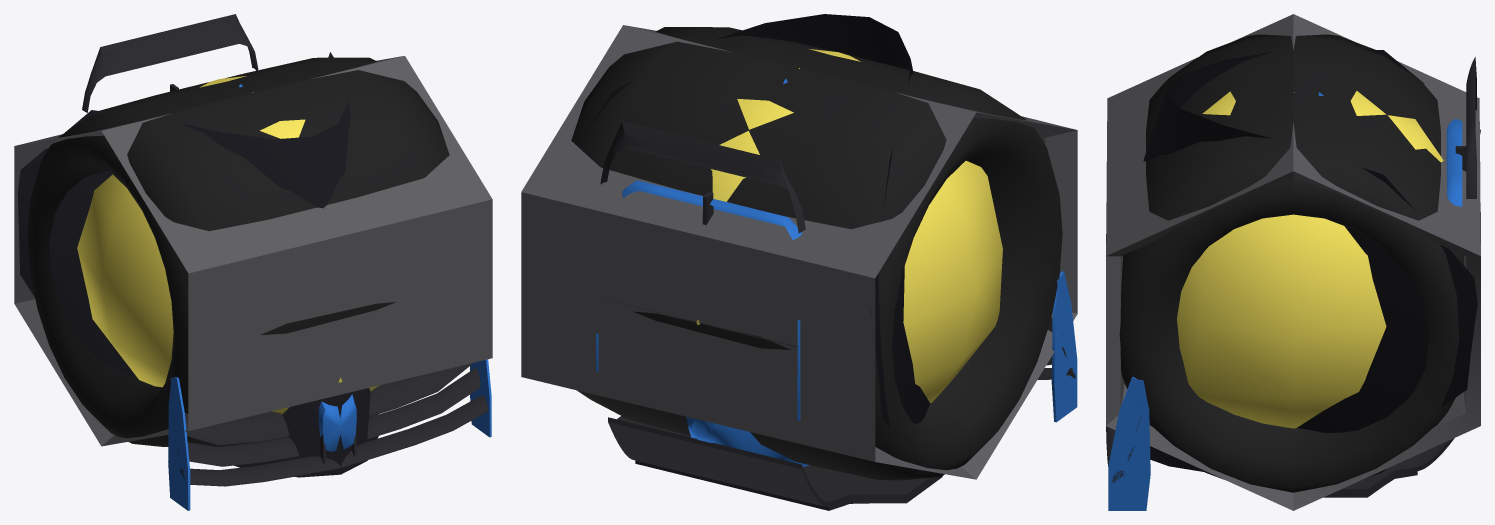
3 views of the same model, side by side, from view 1: azimuth 30°, elevation 25°; view 2: azimuth 150°, elevation 25°; view 3: azimuth 270°, elevation 25° (orthographic). The views are drawn at different scales.
Visible parts, largest first — view 1: rim_FR, tyre_FR, carbon, visor, tyre_FL, helmet, tyre_RR, body, tyre_RL, rim_RR; view 2: rim_RR, tyre_RR, tyre_RL, helmet, carbon, tyre_FR, visor, body, rim_RL, tyre_FL, rim_FR; view 3: helmet, tyre_RL, tyre_FL, visor, tyre_RR, rim_FR, tyre_FR, rim_RR, body, rim_FL, rim_RL, carbon.
Part boxes in pixels (left/top/right/bottom): rim_FR: left=14, top=56, right=492, bottom=445; tyre_FR: left=27, top=84, right=376, bottom=446; carbon: left=82, top=14, right=487, bottom=486; visor: left=17, top=52, right=378, bottom=477; tyre_FL: left=209, top=70, right=449, bottom=332; helmet: left=77, top=76, right=378, bottom=414; tyre_RR: left=32, top=73, right=288, bottom=432; body: left=168, top=84, right=491, bottom=510; tyre_RL: left=246, top=57, right=376, bottom=83; rim_RR: left=15, top=56, right=401, bottom=446; rim_RR: left=521, top=25, right=1077, bottom=479; tyre_RR: left=656, top=58, right=1062, bottom=480; tyre_RL: left=571, top=41, right=852, bottom=459; helmet: left=696, top=49, right=1002, bottom=402; carbon: left=598, top=121, right=1075, bottom=510; tyre_FR: left=758, top=45, right=1056, bottom=462; visor: left=584, top=14, right=930, bottom=428; body: left=596, top=78, right=1077, bottom=466; rim_RL: left=646, top=189, right=928, bottom=454; tyre_FL: left=655, top=27, right=807, bottom=57; rim_FR: left=625, top=25, right=1076, bottom=479; helmet: left=1177, top=91, right=1443, bottom=428; tyre_RL: left=1132, top=94, right=1464, bottom=492; tyre_FL: left=1119, top=110, right=1454, bottom=492; visor: left=1106, top=49, right=1480, bottom=471; tyre_RR: left=1293, top=34, right=1440, bottom=177; rim_FR: left=1106, top=14, right=1293, bottom=255; tyre_FR: left=1106, top=34, right=1293, bottom=242; rim_RR: left=1293, top=14, right=1480, bottom=255; body: left=1108, top=92, right=1462, bottom=510; rim_FL: left=1293, top=171, right=1480, bottom=510; rim_RL: left=1106, top=171, right=1293, bottom=510; carbon: left=1106, top=57, right=1480, bottom=497.
Bounding box in the file's own units: 65536 × 65534 × 65537.
